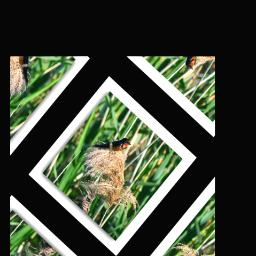Swallow: (89, 120, 135, 169)
